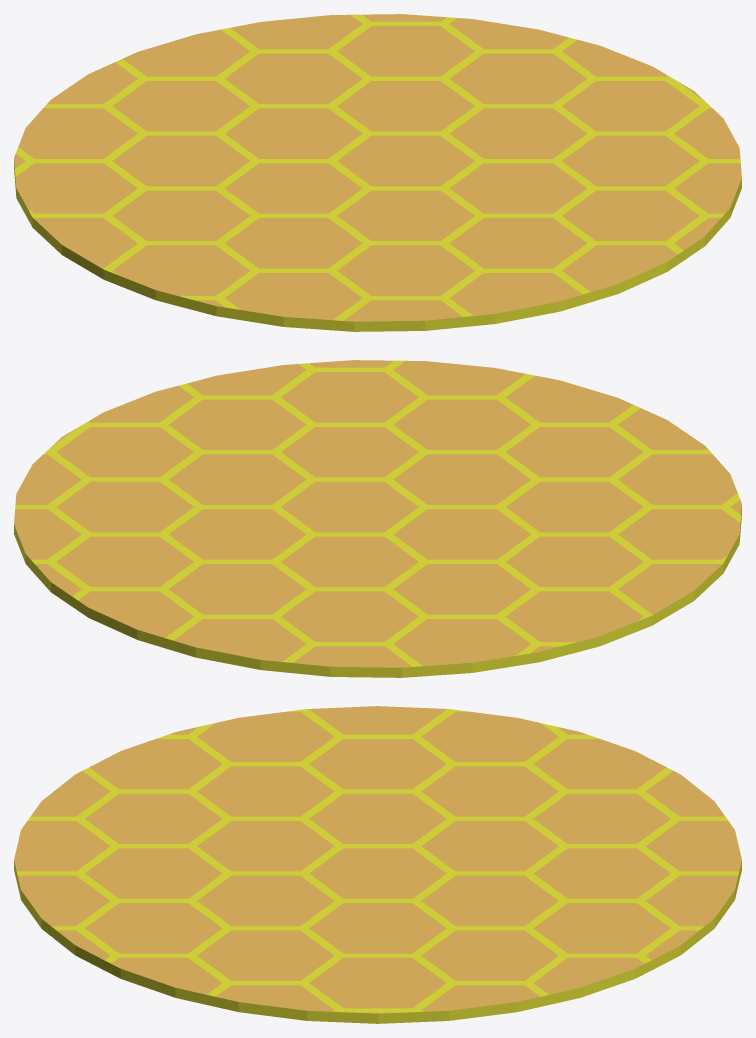
File: KovanZemini.fbx
The picture shows the model from 3 angles, top to bottom: view 1: azimuth 30°, elevation 25°; view 2: azimuth 150°, elevation 25°; view 3: azimuth 270°, elevation 25°; orthographic projection.
Visible parts, largest first — view 1: BeehiveGround; view 2: BeehiveGround; view 3: BeehiveGround.
Part boxes in pixels (x1=…): BeehiveGround: x1=14, y1=14, x2=741, y2=331; BeehiveGround: x1=14, y1=360, x2=741, y2=677; BeehiveGround: x1=14, y1=706, x2=741, y2=1023.
Size of the model in its own units: 9936 by 153 by 9936.
